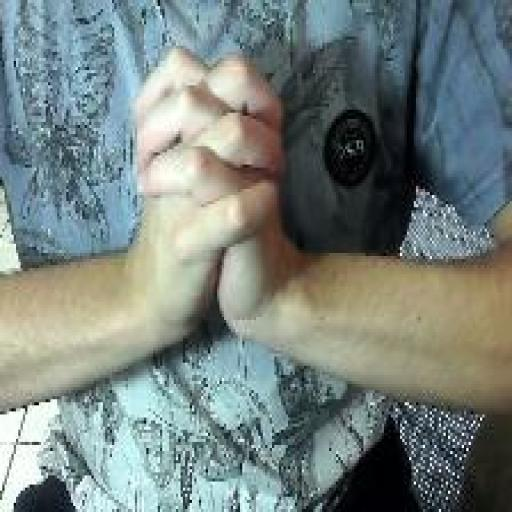Mi -snake-: (130, 42, 290, 356)
